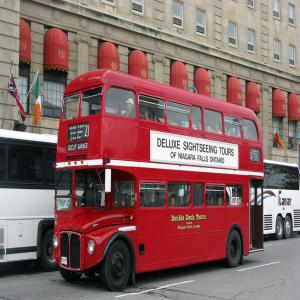Vehicle-registration-plate: (62, 257, 68, 266)
